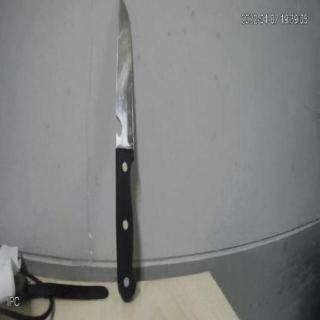knife: (111, 0, 149, 297)
